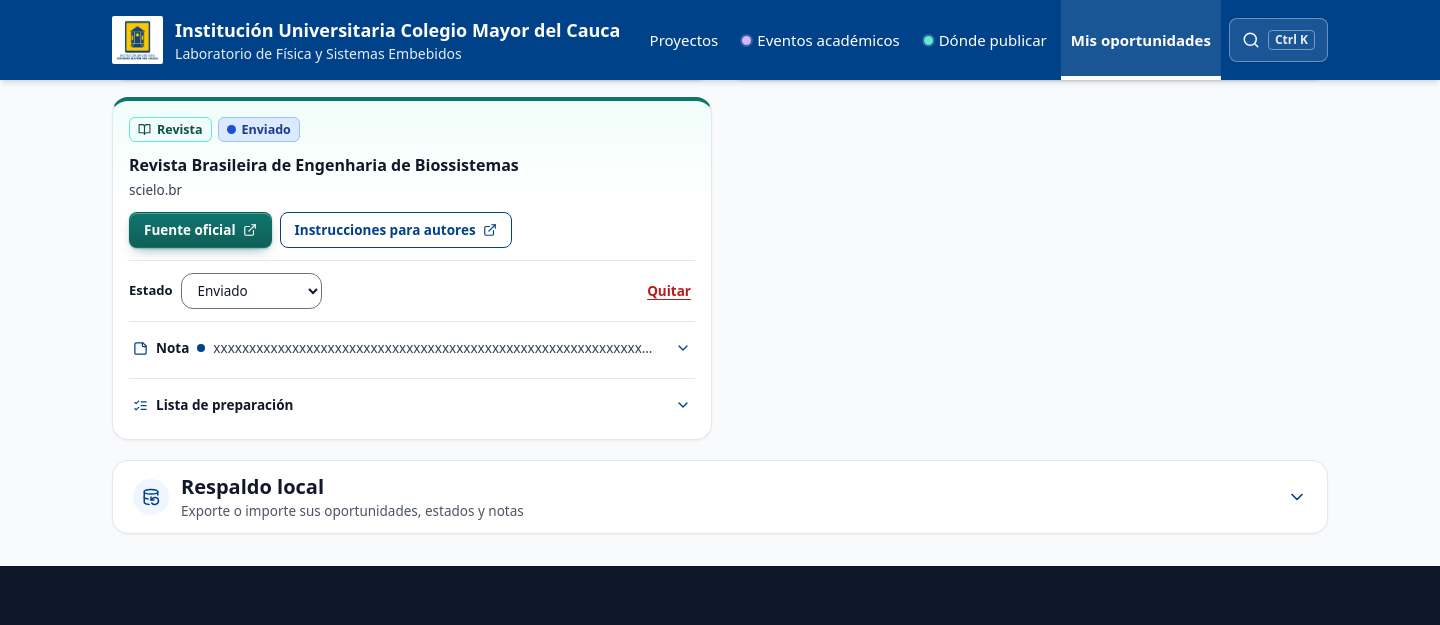
Scenario: compact cards › keeps the «Lista de preparación» of each card with its steps and the link to the official source
(page scrolled)
Step 1. Click the text "Lista de preparación" → (225, 405), box 156,395 -> 293,415
(page scrolled)
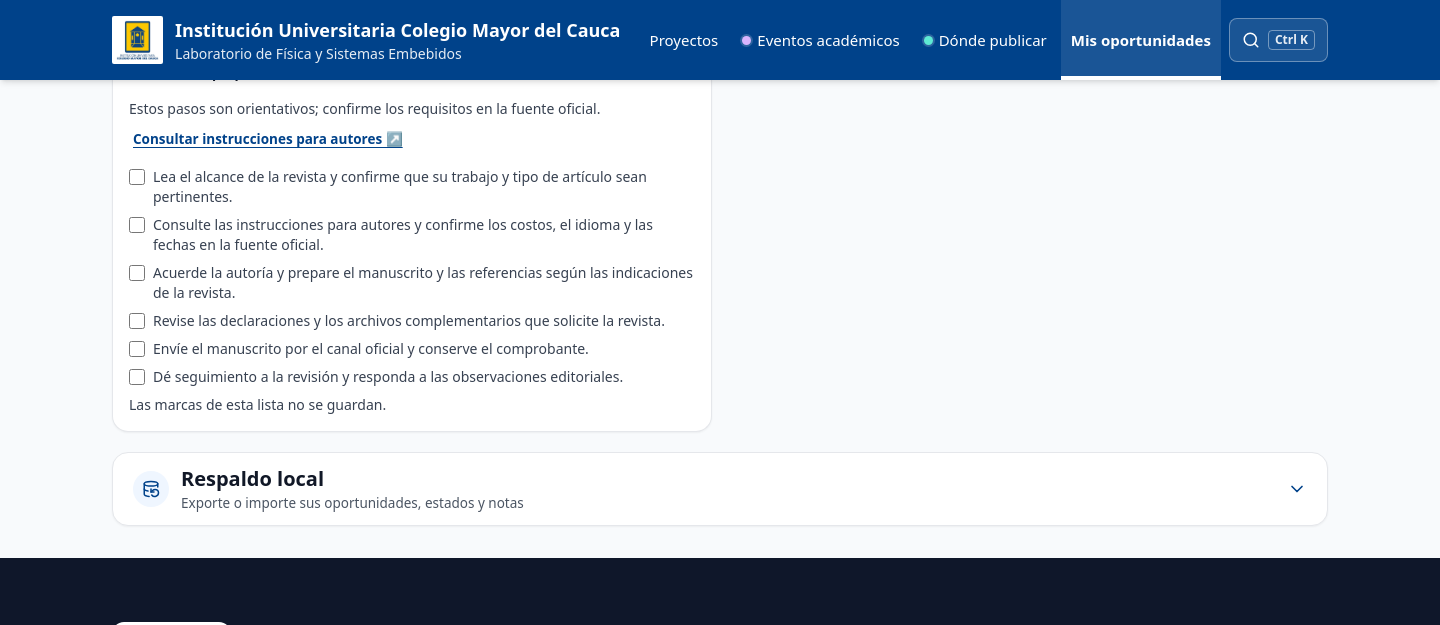
Result: the text "Estos pasos son orientativos; confirme los requisitos en la fuente oficial." is shown at 129,99 -> 600,118
Result: the text "Las marcas de esta lista no se guardan." is shown at 129,395 -> 386,414
